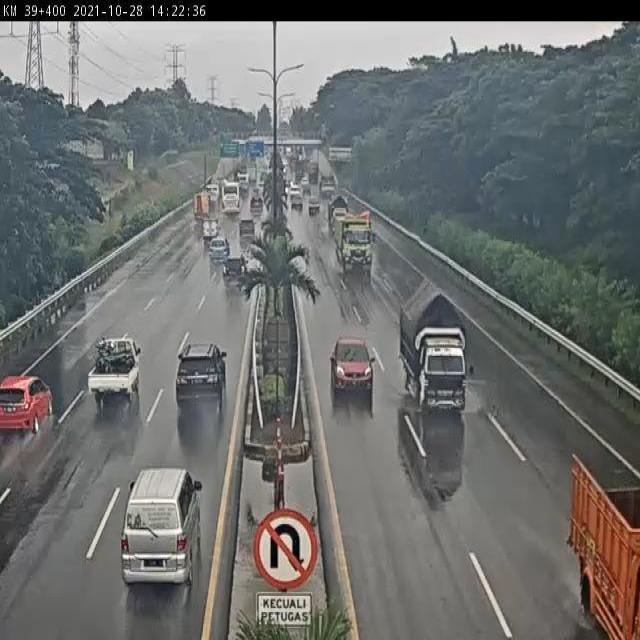car: (119, 469, 202, 588), (87, 339, 143, 409), (173, 344, 229, 405), (0, 377, 56, 436), (330, 334, 377, 394)
truck-m-: (334, 212, 379, 281)
truck-s-: (399, 277, 471, 415)
